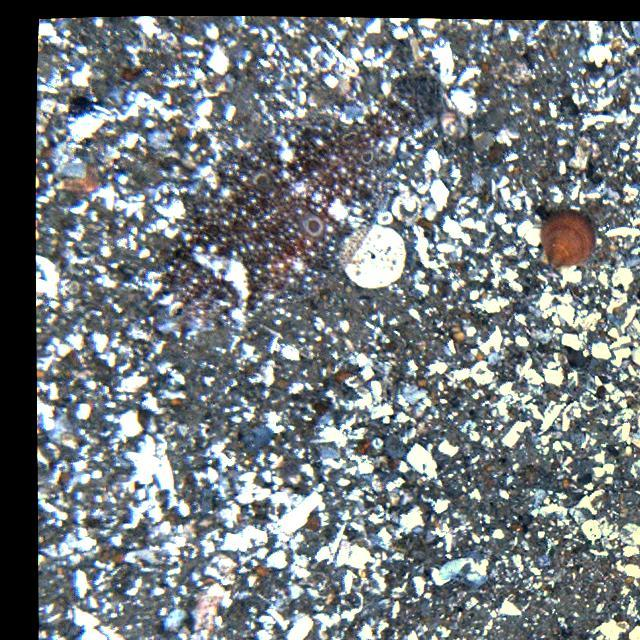flatfish: (165, 70, 449, 325)
